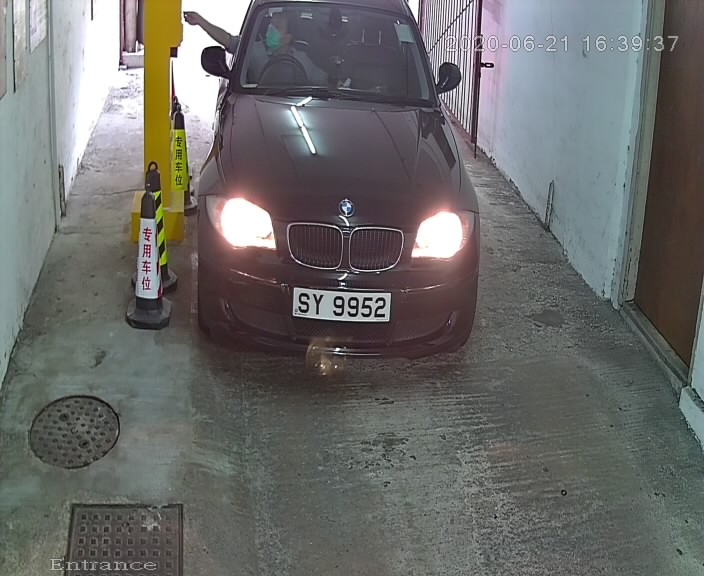privatecar: (185, 2, 498, 389)
